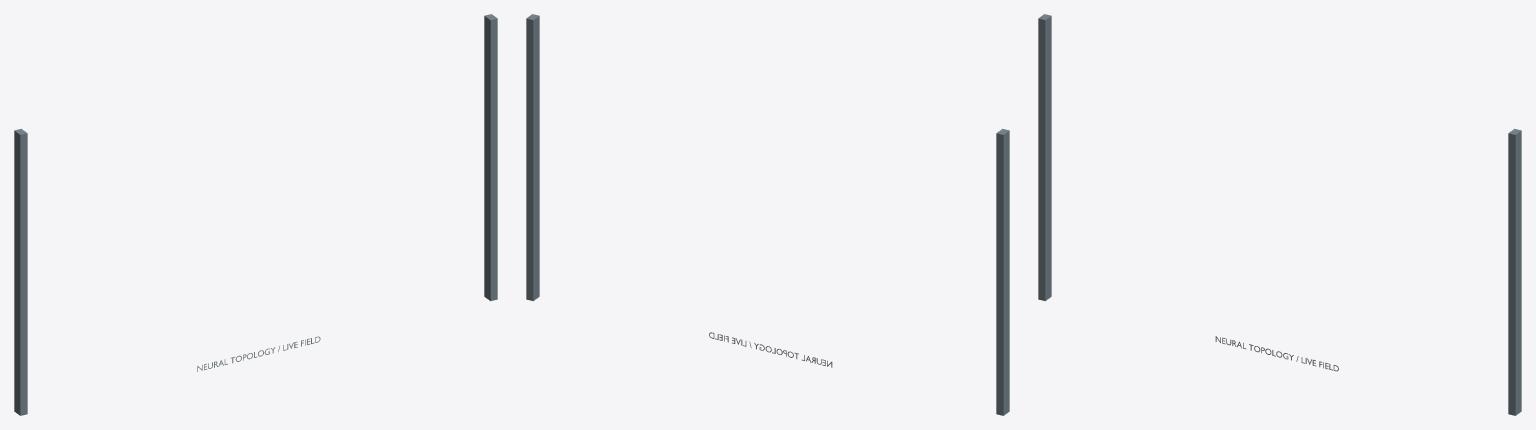
File: SM_Lab_WallDisplay.fbx
The picture shows the model from 3 angles, left to right: view 1: azimuth 30°, elevation 25°; view 2: azimuth 150°, elevation 25°; view 3: azimuth 330°, elevation 25°; orthographic projection.
Parts seen in each view (by area): view 1: SM_Lab_WallDisplay; view 2: SM_Lab_WallDisplay; view 3: SM_Lab_WallDisplay.
Part boxes in pixels (<box>): SM_Lab_WallDisplay: <box>14,14,497,415</box>; SM_Lab_WallDisplay: <box>526,14,1009,415</box>; SM_Lab_WallDisplay: <box>1038,14,1521,415</box>.
Size of the model in its own units: 400 by 9 by 225.
